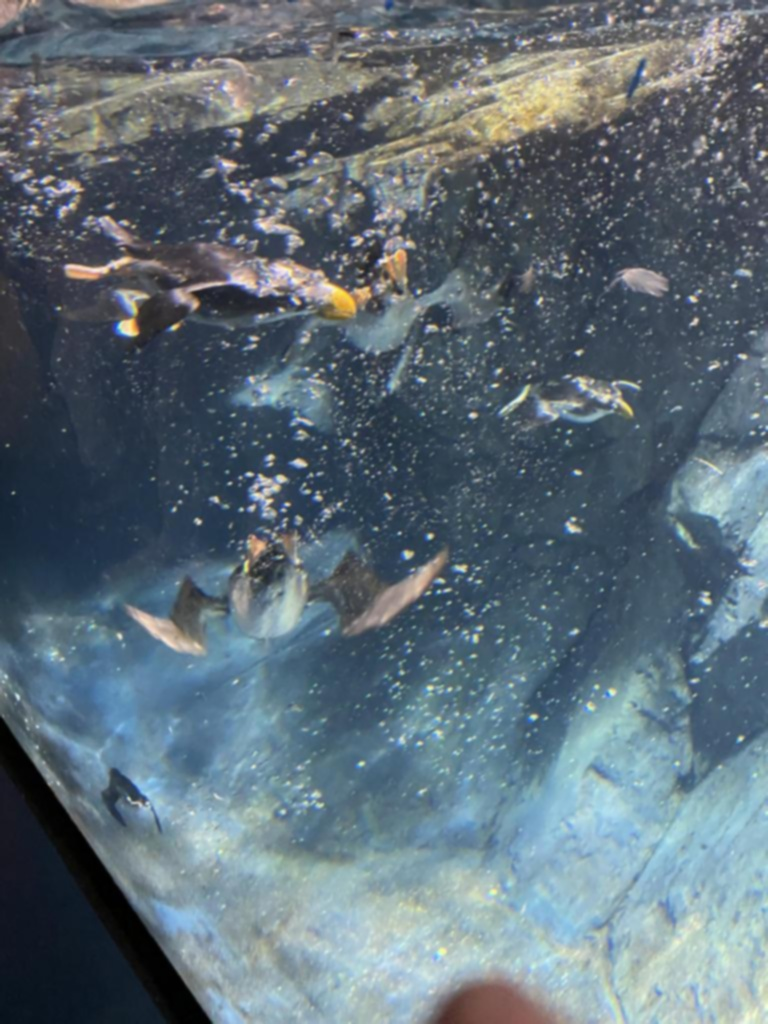puffin: (120, 526, 448, 658), (64, 214, 358, 344), (290, 243, 532, 353), (494, 368, 640, 428), (100, 768, 162, 834)
